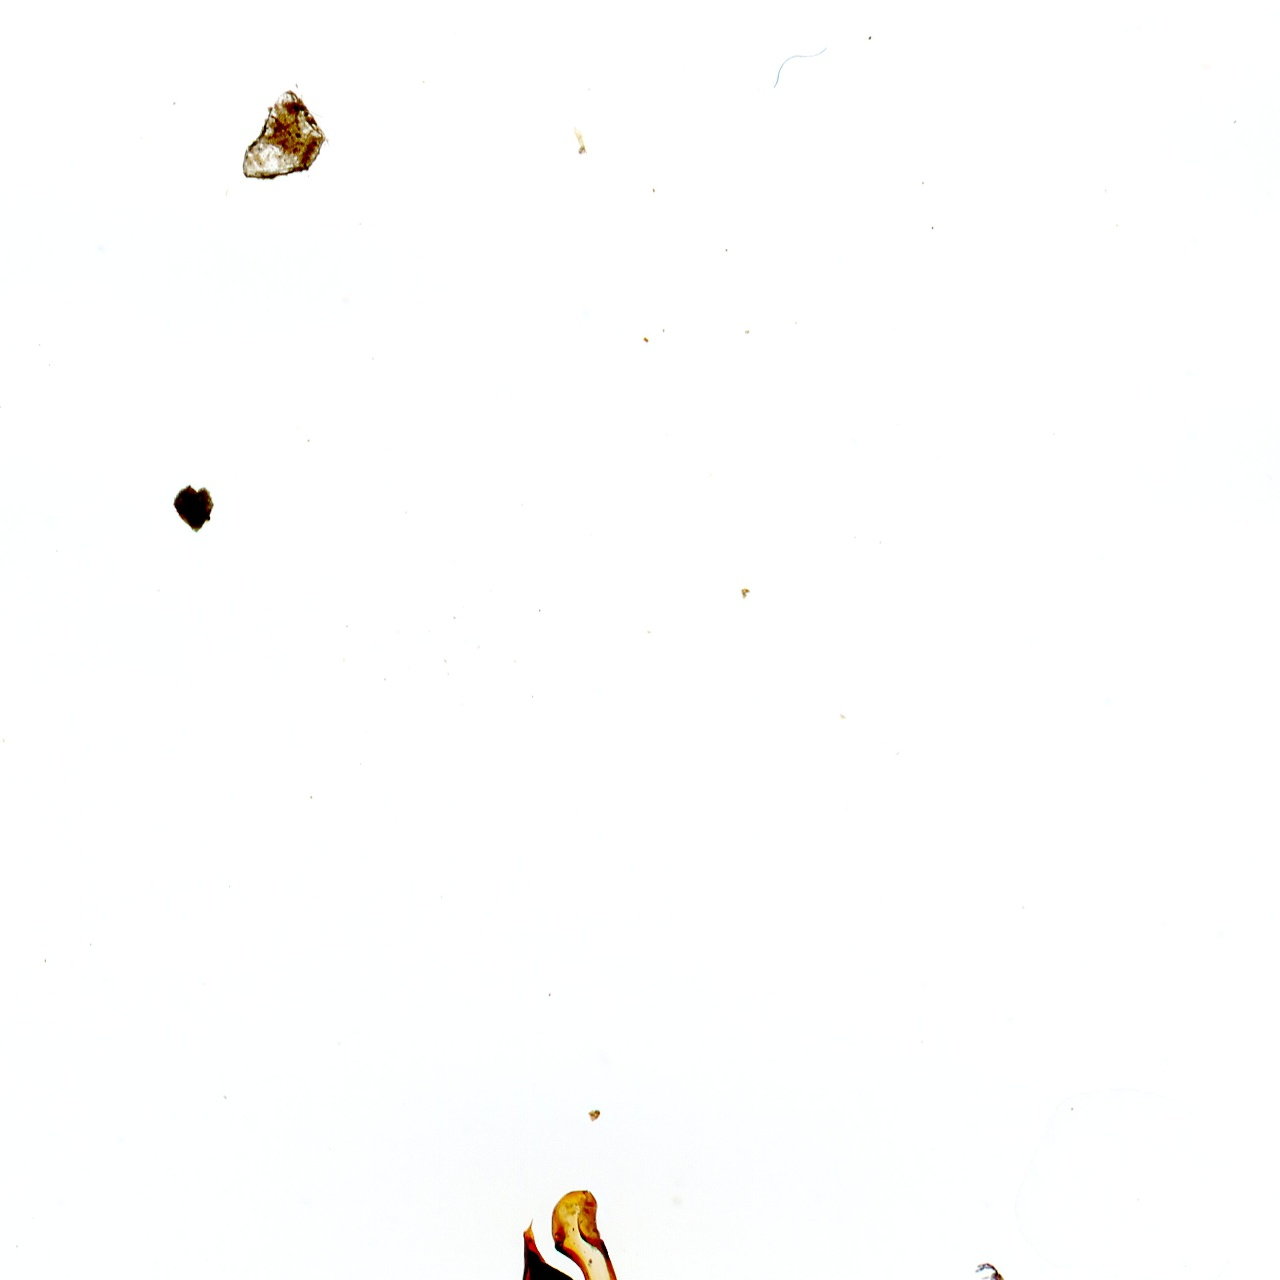arthropod: (972, 1260, 1014, 1280)
